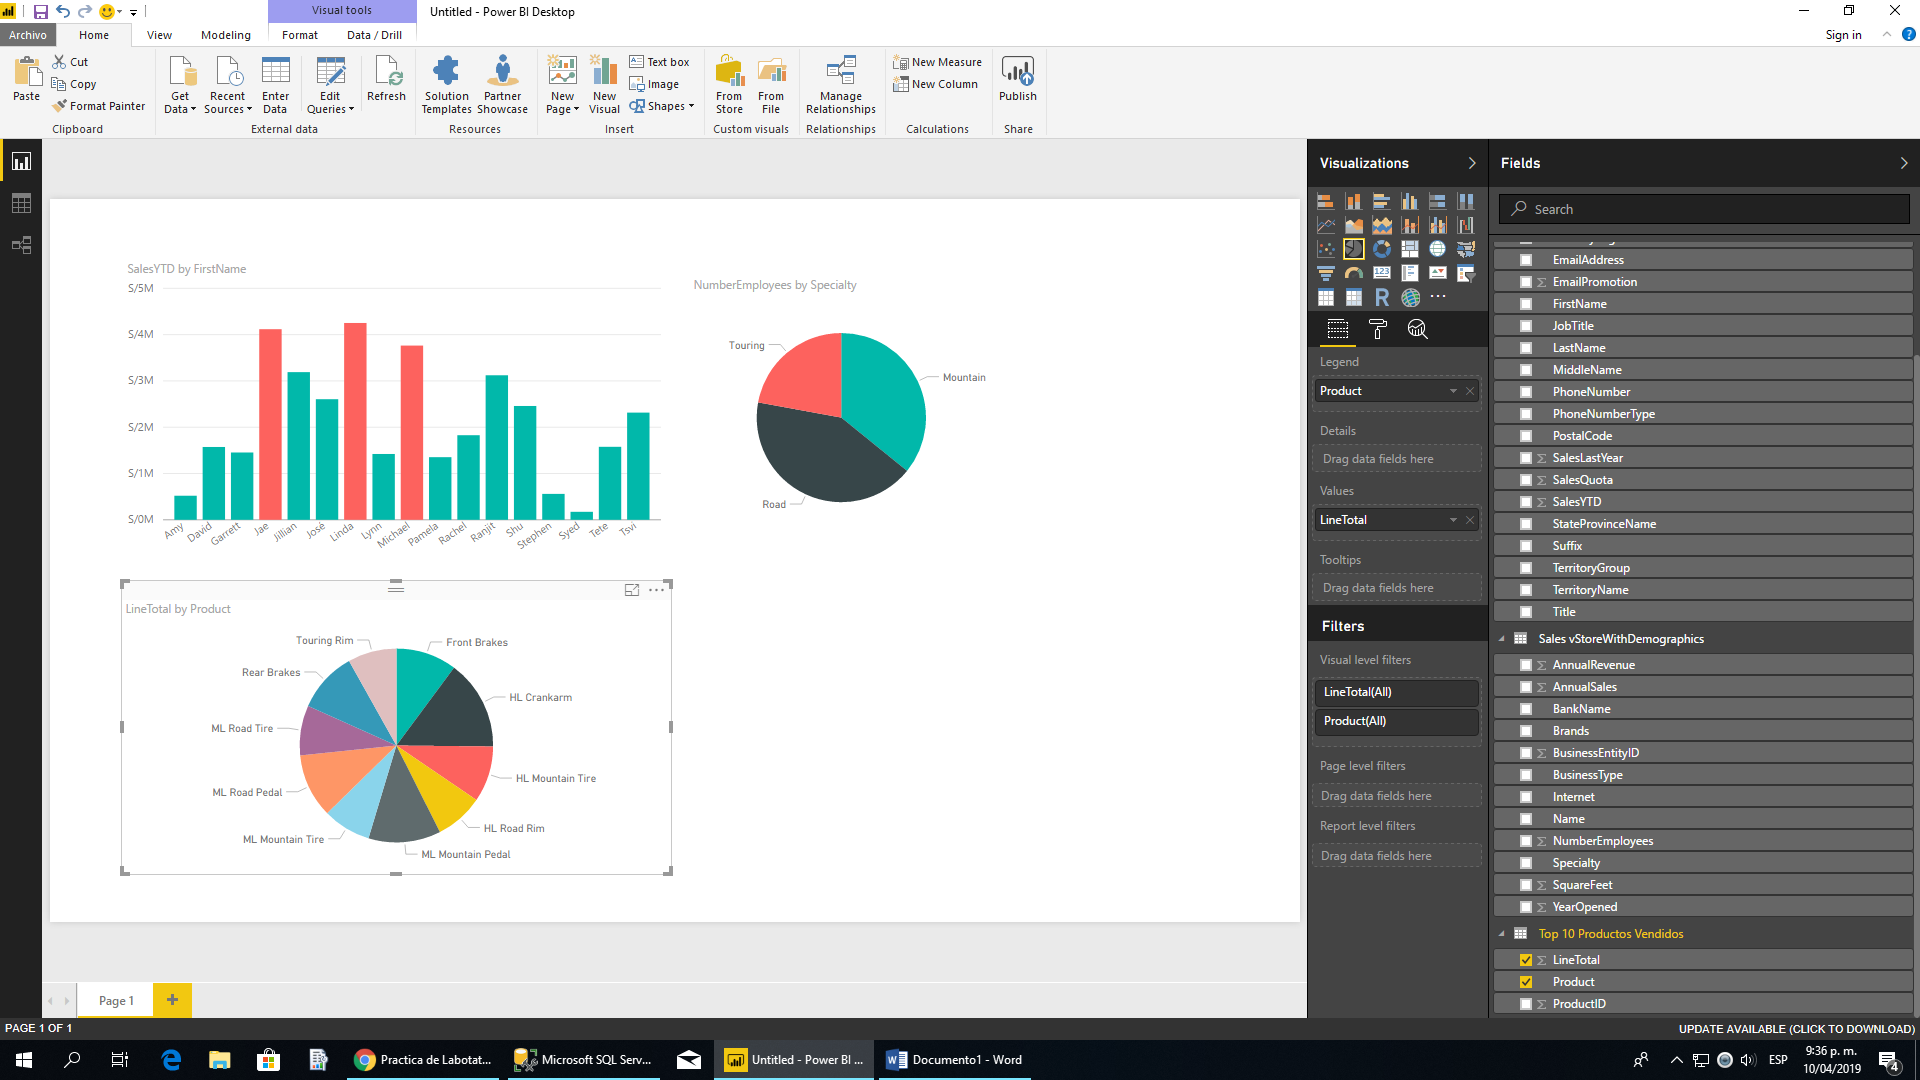

This screenshot's page, from the dashboard's own definition file:
{"tool":"powerbi","page":{"name":"Ventas","canvas":[1280,720],"ordinal":0},"visuals":[{"type":"columnChart","fields":{"Category":["Sales vSalesPerson.FirstName"],"Y":["Sum(Sales vSalesPerson.SalesYTD)"]},"box":[74.8,42,556,307.2],"z":1},{"type":"pieChart","fields":{"Category":["Sales vStoreWithDemographics.Specialty"],"Y":["Sum(Sales vStoreWithDemographics.NumberEmployees)"]},"box":[654.3,58.4,312.3,274.4],"z":2},{"type":"pieChart","fields":{"Category":["Top 10 Productos Vendidos.Product"],"Y":["Sum(Top 10 Productos Vendidos.LineTotal)"]},"box":[72.7,390.1,558.1,323.6],"z":3},{"type":"clusteredColumnChart","fields":{"Y":["Sum(Sales vStoreWithDemographics.AnnualRevenue)","Sum(Sales vStoreWithDemographics.AnnualSales)"]},"box":[673.8,398.3,335.9,303.1],"z":4}]}

Visuals, with their boxes on the page's 1280x720 design canvas (x1, y1, x2, y2). These are canvas units, not pixel positions in the 1920x1080 screenshot, which may show the page scaled, cropped or inside an application window:
columnChart - Sales vSalesPerson.FirstName x Sum(Sales vSalesPerson.SalesYTD): 75:42:631:349
pieChart - Sales vStoreWithDemographics.Specialty x Sum(Sales vStoreWithDemographics.NumberEmployees): 654:58:967:333
pieChart - Top 10 Productos Vendidos.Product x Sum(Top 10 Productos Vendidos.LineTotal): 73:390:631:714
clusteredColumnChart - Sum(Sales vStoreWithDemographics.AnnualRevenue) x Sum(Sales vStoreWithDemographics.AnnualSales): 674:398:1010:701
